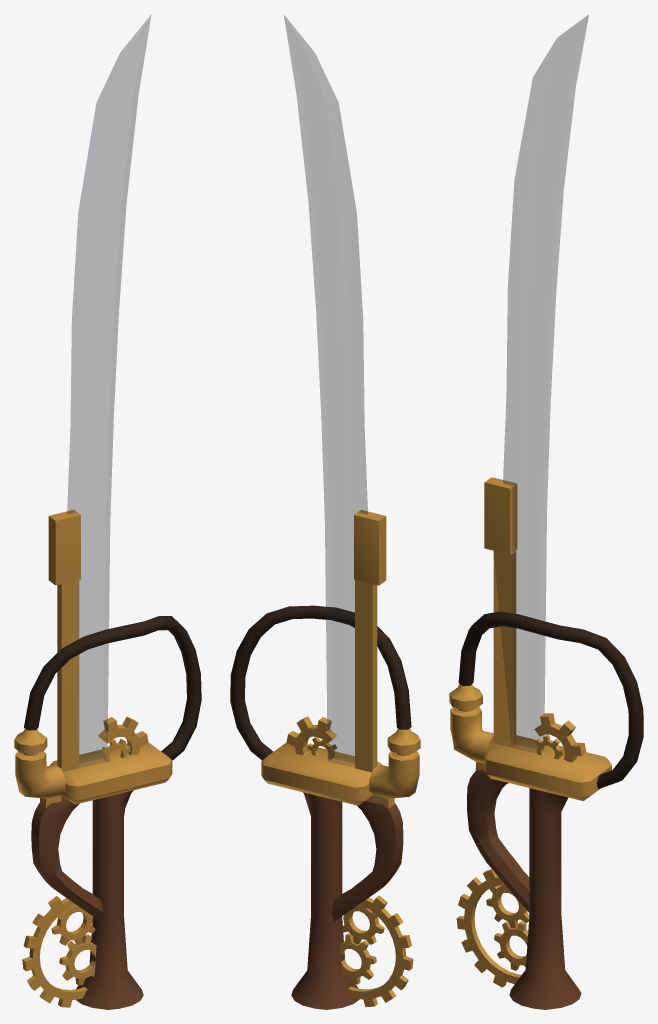
The model's file is blade1.fbx.
3 renders of one model, left to right at view 1: azimuth 30°, elevation 25°; view 2: azimuth 150°, elevation 25°; view 3: azimuth 330°, elevation 25°, orthographic. The views are drawn at different scales.
Visible parts, largest first — view 1: Plane, Cylinder, BezierCurve, Cube.001, Plane.002, Circle.001, Plane.003, Plane.001, Circle.004, Circle.006, Circle.003, Circle.002; view 2: Plane, Cylinder, BezierCurve, Cube.001, Plane.002, Circle.001, Plane.003, Plane.001, Circle.004, Circle.006, Circle.003, Circle.002; view 3: Plane, Cylinder, BezierCurve, Cube.001, Plane.002, Circle.001, Plane.003, Plane.001, Circle.004, Circle.006, Circle.003, Circle.002.
Boxes of the visible parts, x1,y1,x2,y2 form: Plane: [67, 15, 150, 766]; Cylinder: [76, 790, 143, 1009]; BezierCurve: [24, 616, 201, 760]; Cube.001: [49, 743, 172, 804]; Plane.002: [57, 580, 79, 771]; Circle.001: [31, 795, 102, 920]; Plane.003: [14, 728, 65, 808]; Plane.001: [48, 509, 80, 585]; Circle.004: [22, 896, 87, 1007]; Circle.006: [98, 716, 148, 755]; Circle.003: [59, 934, 96, 985]; Circle.002: [51, 903, 95, 945]; Plane: [284, 15, 367, 766]; Cylinder: [291, 792, 359, 1009]; BezierCurve: [230, 605, 411, 760]; Cube.001: [261, 742, 381, 805]; Plane.002: [355, 580, 377, 772]; Circle.001: [332, 795, 403, 921]; Plane.003: [369, 728, 420, 808]; Plane.001: [354, 510, 386, 585]; Circle.004: [348, 895, 413, 1007]; Circle.006: [286, 716, 336, 755]; Circle.003: [340, 933, 376, 984]; Circle.002: [340, 904, 384, 944]; Plane: [503, 15, 588, 753]; Cylinder: [509, 788, 581, 1009]; BezierCurve: [458, 611, 643, 788]; Cube.001: [484, 735, 611, 800]; Plane.002: [493, 551, 516, 747]; Circle.001: [467, 769, 529, 912]; Plane.003: [449, 684, 498, 770]; Plane.001: [484, 477, 517, 554]; Circle.004: [456, 869, 521, 987]; Circle.006: [534, 713, 586, 762]; Circle.003: [494, 921, 528, 970]; Circle.002: [486, 883, 529, 928].
Size of the model in its own units: 86.19 by 441 by 28.13.
